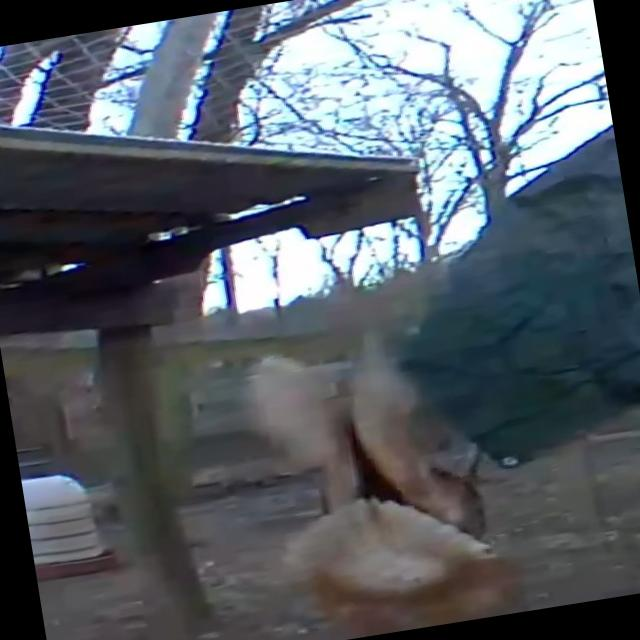wing flap: (190, 292, 534, 640)
